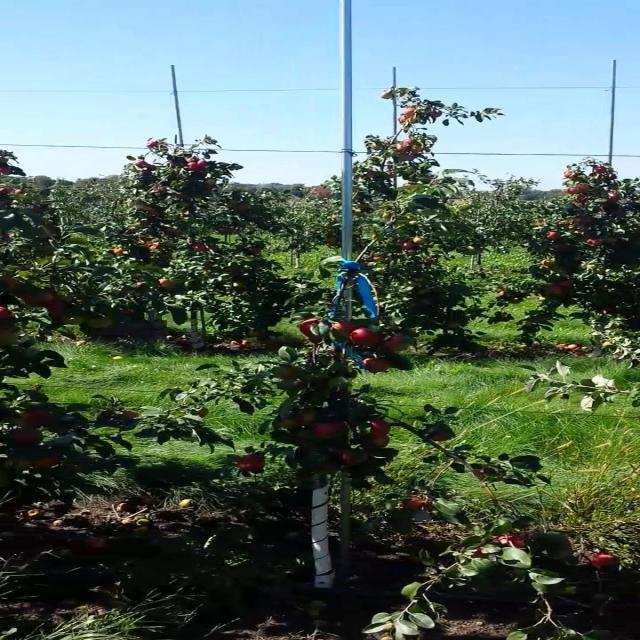apple: (311, 421, 347, 438), (349, 328, 382, 346), (471, 464, 504, 482), (20, 290, 56, 306), (298, 318, 322, 342), (31, 450, 62, 468), (22, 408, 53, 426), (589, 554, 620, 571), (13, 428, 42, 446), (382, 334, 411, 352), (338, 449, 369, 465), (238, 454, 264, 473), (298, 318, 320, 340), (402, 496, 431, 511), (362, 358, 391, 372), (311, 460, 340, 474), (331, 320, 362, 333), (493, 535, 524, 548), (276, 365, 302, 380), (276, 415, 302, 429), (427, 429, 456, 441), (371, 419, 391, 436), (0, 275, 20, 292), (300, 408, 318, 425), (11, 455, 31, 470), (87, 318, 116, 328), (44, 300, 64, 314), (369, 435, 389, 448), (369, 436, 389, 448), (96, 410, 114, 421), (120, 409, 140, 418), (62, 316, 84, 324), (471, 548, 487, 557), (196, 408, 209, 418)
